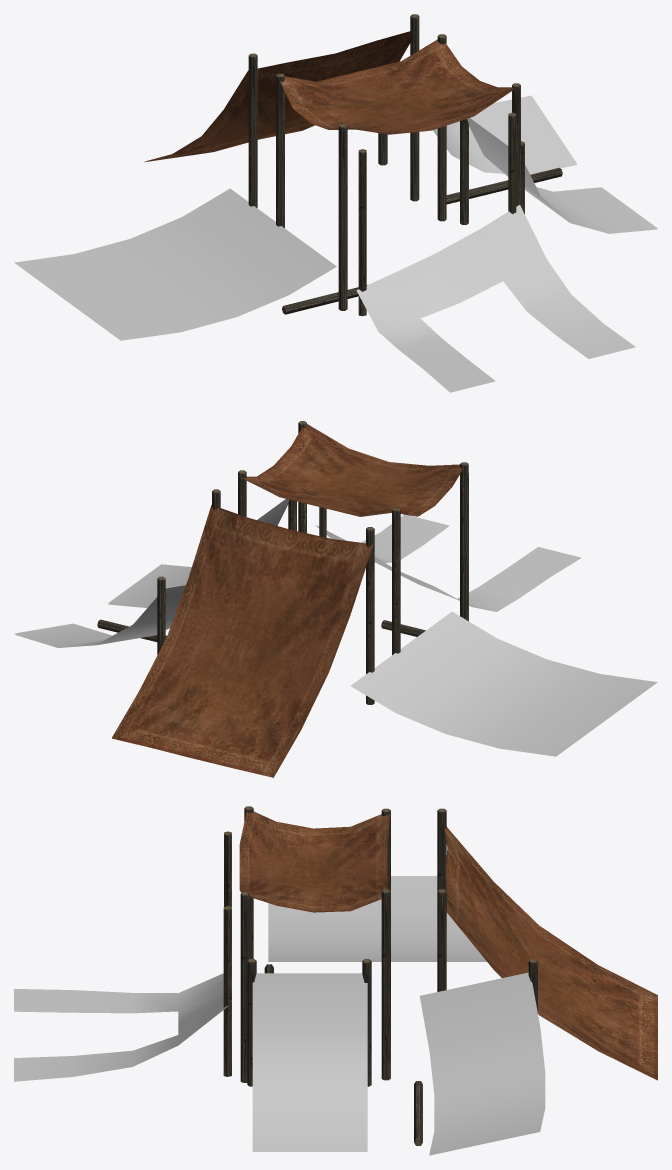
File: Shed04_Build_002.FBX
The picture shows the model from 3 angles, top to bottom: view 1: azimuth 30°, elevation 25°; view 2: azimuth 150°, elevation 25°; view 3: azimuth 270°, elevation 25°; orthographic projection. The views are drawn at different scales.
Visible parts, largest first — view 1: Shed04_Build_002; view 2: Shed04_Build_002; view 3: Shed04_Build_002.
Boxes of the visible parts, bbox=[...] form: Shed04_Build_002: bbox=[14, 14, 657, 392]; Shed04_Build_002: bbox=[14, 421, 657, 777]; Shed04_Build_002: bbox=[14, 806, 657, 1155].
Size of the model in its own units: 571 by 185 by 573.
